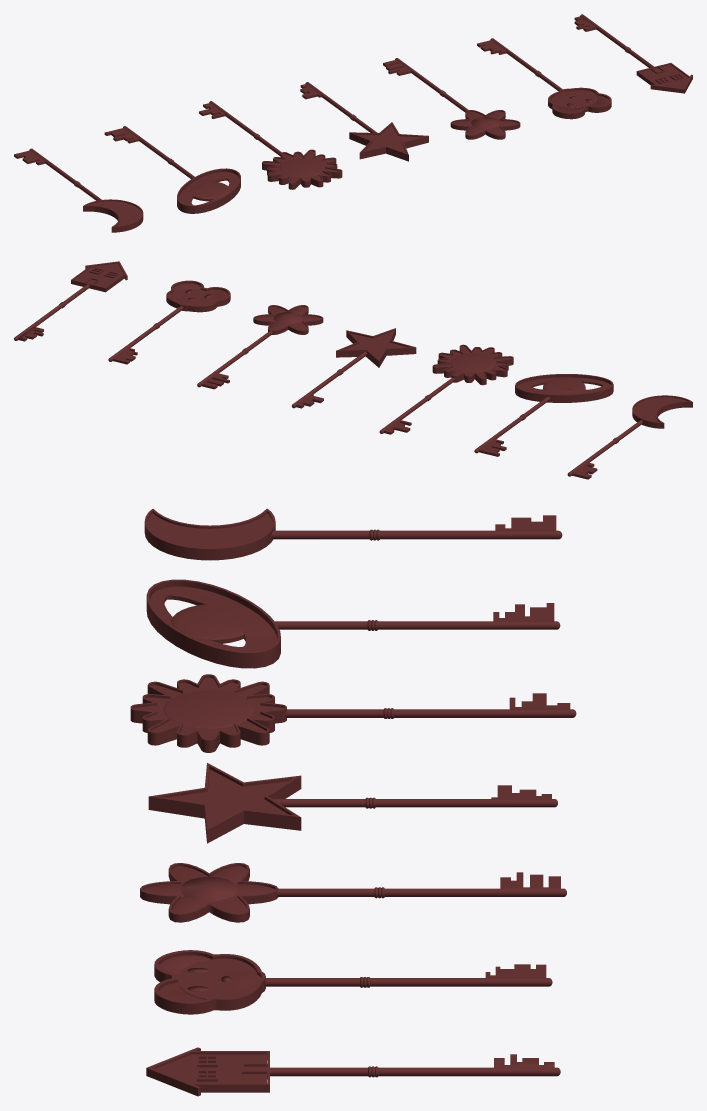
The model's file is Clef_Low.fbx.
The picture shows the model from 3 angles, top to bottom: view 1: azimuth 30°, elevation 25°; view 2: azimuth 150°, elevation 25°; view 3: azimuth 270°, elevation 25°; orthographic projection. The views are drawn at different scales.
Parts seen in each view (by area): view 1: ClefSoleil_Low, ClefSaturne_Low, ClefOurson_Low, ClefEtoile_Low, CLefFleur_Low, ClefLune_Low, ClefMaison_Low; view 2: ClefSaturne_Low, ClefSoleil_Low, ClefEtoile_Low, ClefOurson_Low, CLefFleur_Low, ClefLune_Low, ClefMaison_Low; view 3: ClefSoleil_Low, ClefSaturne_Low, ClefOurson_Low, ClefEtoile_Low, CLefFleur_Low, ClefLune_Low, ClefMaison_Low.
Part boxes in pixels (x1=…): ClefSoleil_Low: x1=199, y1=101, x2=342, y2=189; ClefSaturne_Low: x1=104, y1=126, x2=240, y2=213; ClefOurson_Low: x1=477, y1=38, x2=611, y2=119; ClefEtoile_Low: x1=300, y1=82, x2=428, y2=161; CLefFleur_Low: x1=383, y1=58, x2=520, y2=139; ClefLune_Low: x1=14, y1=148, x2=143, y2=232; ClefMaison_Low: x1=574, y1=14, x2=692, y2=93; ClefSaturne_Low: x1=474, y1=374, x2=613, y2=456; ClefSoleil_Low: x1=379, y1=344, x2=513, y2=434; ClefEtoile_Low: x1=291, y1=328, x2=416, y2=408; ClefOurson_Low: x1=108, y1=280, x2=230, y2=364; CLefFleur_Low: x1=197, y1=305, x2=323, y2=389; ClefLune_Low: x1=567, y1=395, x2=692, y2=479; ClefMaison_Low: x1=14, y1=261, x2=127, y2=341; ClefSoleil_Low: x1=130, y1=674, x2=576, y2=752; ClefSaturne_Low: x1=146, y1=579, x2=560, y2=668; ClefOurson_Low: x1=154, y1=950, x2=552, y2=1014; ClefEtoile_Low: x1=148, y1=763, x2=557, y2=843; CLefFleur_Low: x1=140, y1=863, x2=566, y2=922; ClefLune_Low: x1=144, y1=508, x2=562, y2=560; ClefMaison_Low: x1=146, y1=1047, x2=560, y2=1096.
Size of the model in its own units: 129 by 1.6 by 42.07.
